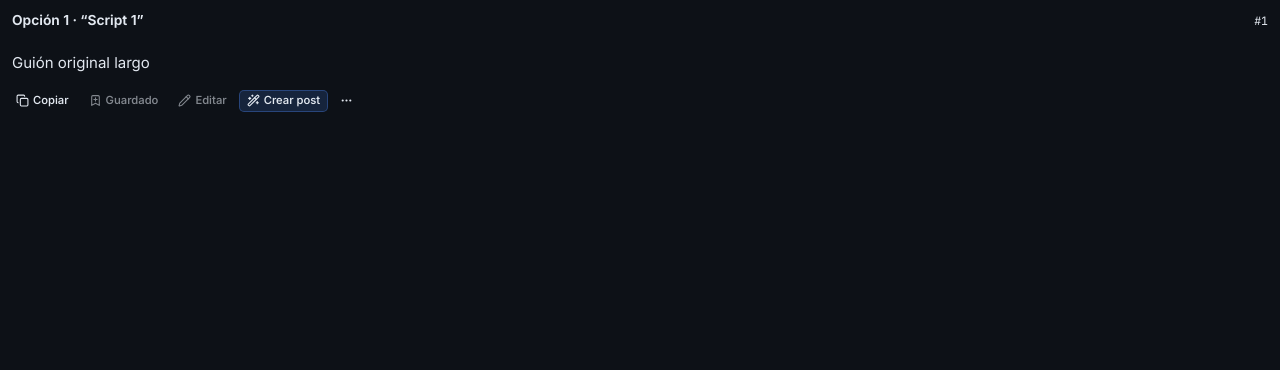
ChatShellScriptCard post preview › does not generate the post if the optimized copy cannot be saved
Click the button "Crear post": x=283, y=101 [239,90,328,112]
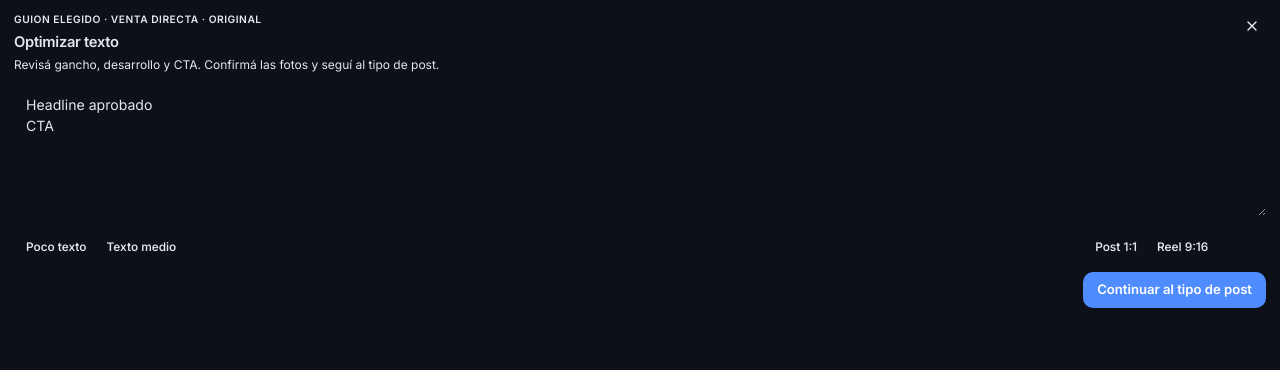
Now the text box named "Vista previa editable del post" is shown, box [14,84,1266,216]
Click the button "Continuar al tipo de post": x=1175, y=290 [1083,272,1266,308]
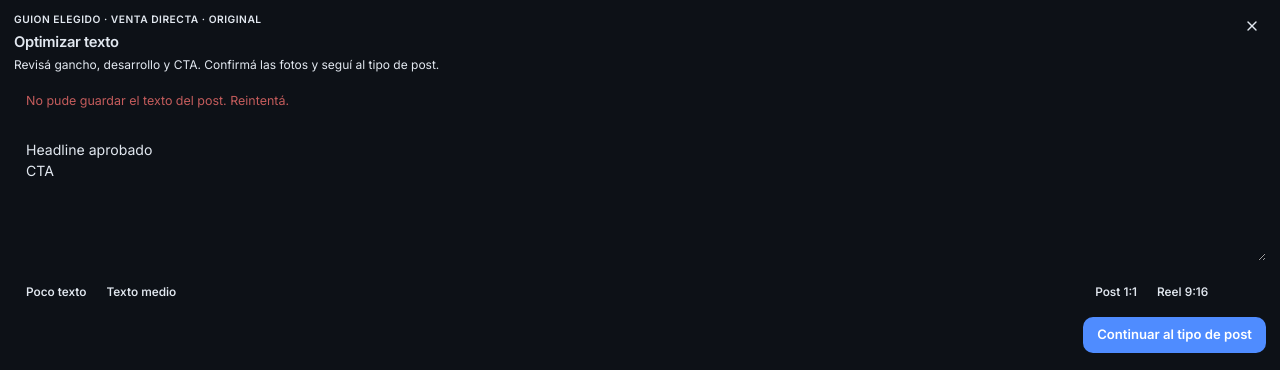
Now the text "No pude guardar el texto del post. Reintentá." is shown, box [26,93,289,108]
